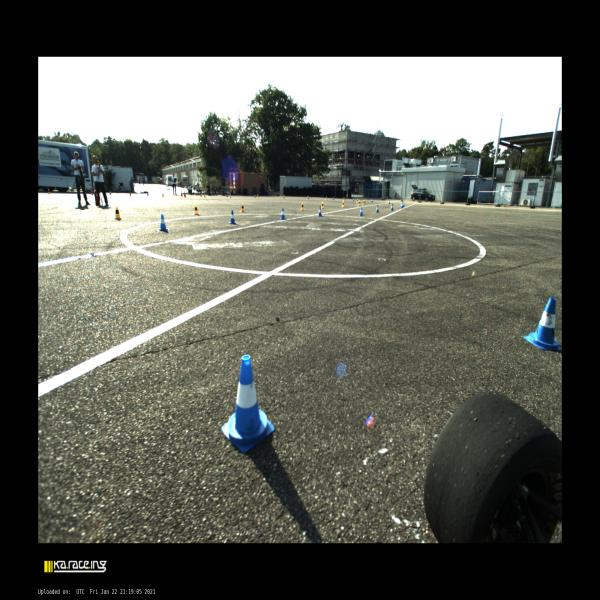blue_cone: (222, 355, 274, 452), (523, 298, 562, 350), (159, 214, 169, 231), (229, 210, 237, 224), (280, 208, 286, 220), (318, 206, 322, 216), (359, 207, 363, 216), (390, 203, 394, 210), (376, 205, 379, 213), (401, 203, 403, 208), (110, 190, 112, 195), (403, 202, 405, 207), (371, 199, 373, 203), (388, 200, 390, 204), (332, 196, 334, 200), (200, 193, 202, 197), (254, 194, 256, 198), (147, 192, 149, 196), (226, 193, 228, 197), (353, 198, 354, 201)
large_orange_cone: (184, 190, 186, 198), (181, 190, 183, 197)
yellow_cone: (115, 206, 122, 219), (194, 204, 199, 215), (240, 203, 245, 212), (300, 202, 305, 210), (321, 202, 324, 209), (91, 190, 94, 196), (362, 200, 365, 205), (358, 200, 360, 206), (342, 202, 344, 207), (343, 197, 345, 202), (204, 193, 206, 198), (256, 194, 258, 199), (48, 189, 50, 194), (283, 195, 285, 199), (306, 196, 308, 200), (325, 196, 327, 200), (130, 192, 132, 196), (162, 193, 164, 197), (357, 199, 358, 203), (230, 194, 231, 198)
